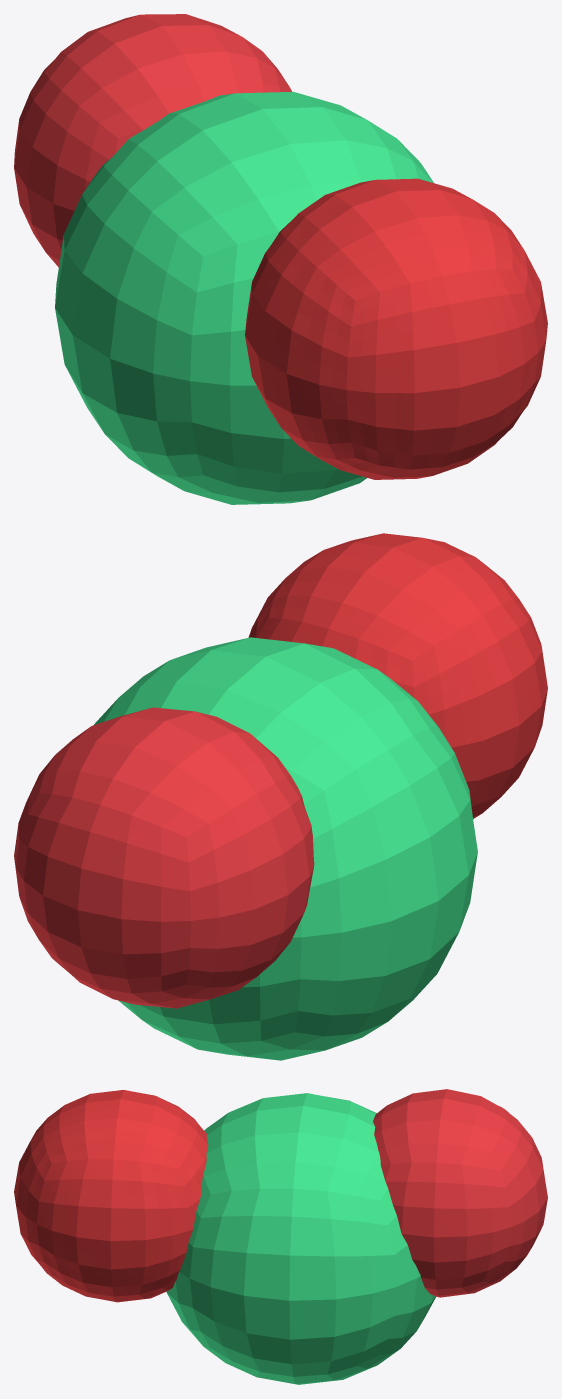
3 renders of one model, top to bottom at view 1: azimuth 30°, elevation 25°; view 2: azimuth 150°, elevation 25°; view 3: azimuth 270°, elevation 25°, orthographic. The views are drawn at different scales.
Parts seen in each view (by area): view 1: Cube, Cube.002, Cube.001; view 2: Cube, Cube.001, Cube.002; view 3: Cube, Cube.002, Cube.001.
Boxes of the visible parts, x1=… form: Cube: x1=55, y1=91, x2=433, y2=504; Cube.002: x1=245, y1=178, x2=547, y2=479; Cube.001: x1=14, y1=14, x2=291, y2=267; Cube: x1=94, y1=637, x2=477, y2=1060; Cube.001: x1=14, y1=707, x2=314, y2=1008; Cube.002: x1=248, y1=533, x2=547, y2=818; Cube: x1=166, y1=1093, x2=435, y2=1384; Cube.002: x1=14, y1=1090, x2=208, y2=1302; Cube.001: x1=373, y1=1089, x2=547, y2=1297.
Bounding box in the file's own units: 2.58 × 2.67 × 4.71.
